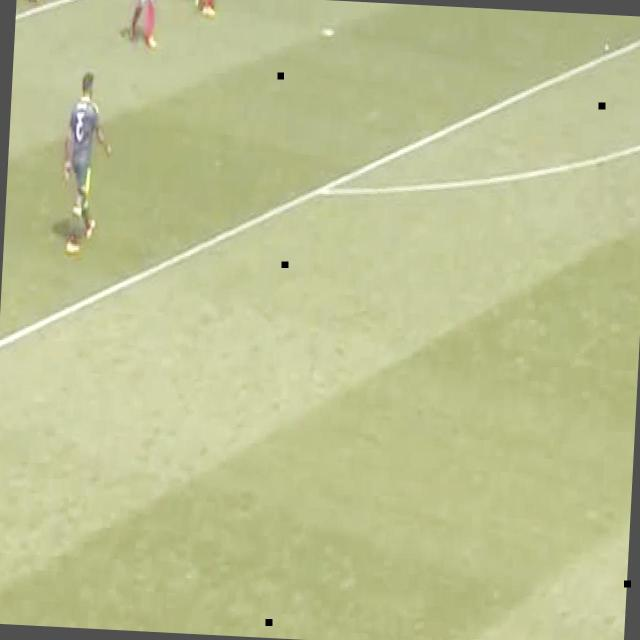player-white: (59, 70, 115, 258), (128, 0, 159, 50), (192, 0, 228, 18)
